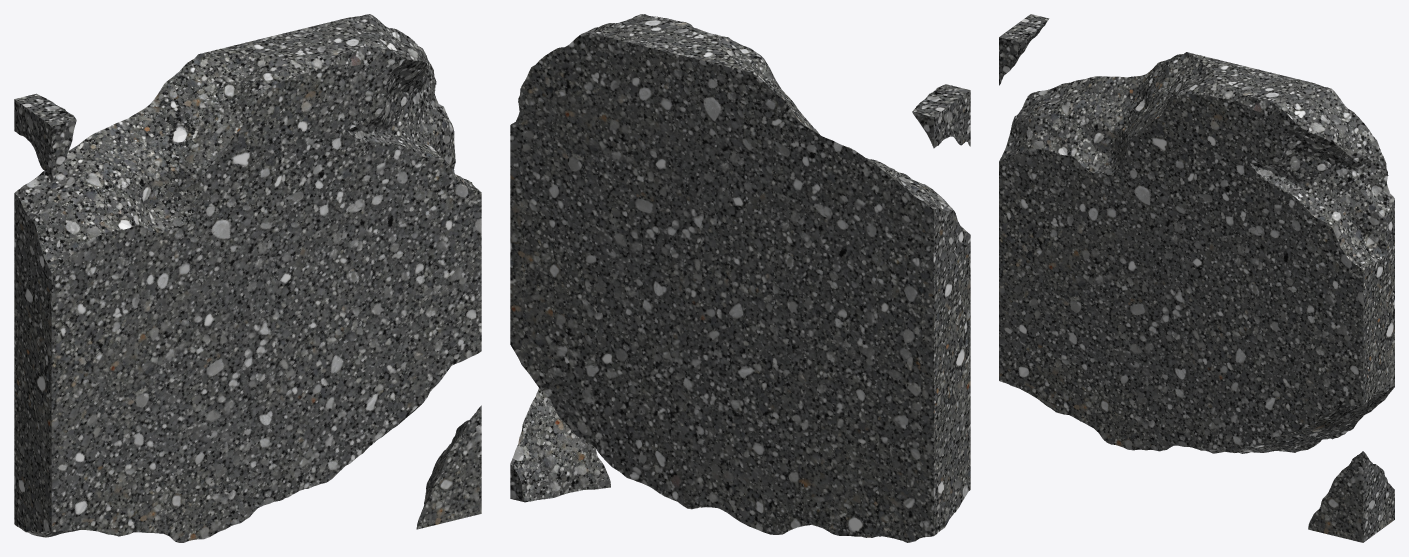
Rendered from Tablette.glb.
3 renders of one model, left to right at view 1: azimuth 30°, elevation 25°; view 2: azimuth 150°, elevation 25°; view 3: azimuth 330°, elevation 25°, orthographic. The views are drawn at different scales.
Parts seen in each view (by area): view 1: Cube.001; view 2: Cube.001; view 3: Cube.001.
Part boxes in pixels (x1,y1,x2,y2): Cube.001: (14, 14, 481, 542); Cube.001: (510, 14, 970, 542); Cube.001: (999, 14, 1394, 542).
Bounding box in the file's own units: 1.03 × 1.12 × 0.1549.
Materials: 1 (1 with a texture image).
